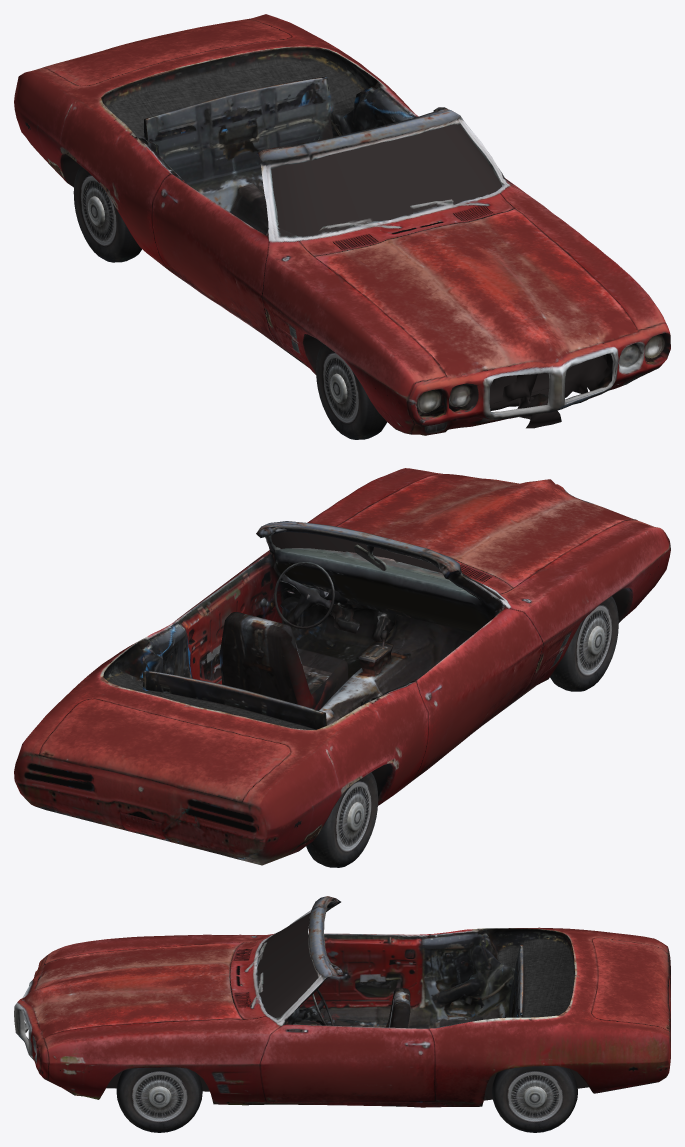
3 views of the same model, one above another, from view 1: azimuth 30°, elevation 25°; view 2: azimuth 150°, elevation 25°; view 3: azimuth 270°, elevation 25° (orthographic). The views are drawn at different scales.
Visible parts, largest first — view 1: LowPolyMuscle, LowPolyMuscle.005, LowPolyMuscle.003, LowPolyMuscle.004; view 2: LowPolyMuscle, LowPolyMuscle.004, LowPolyMuscle.003, LowPolyMuscle.005; view 3: LowPolyMuscle, LowPolyMuscle.002, LowPolyMuscle.001, LowPolyMuscle.005.
Boxes of the visible parts, x1,y1,x2,y2 form: LowPolyMuscle: (14, 14, 670, 435); LowPolyMuscle.005: (271, 124, 501, 236); LowPolyMuscle.003: (316, 343, 386, 439); LowPolyMuscle.004: (73, 166, 141, 262); LowPolyMuscle: (14, 468, 670, 865); LowPolyMuscle.004: (306, 772, 378, 867); LowPolyMuscle.003: (550, 596, 618, 691); LowPolyMuscle.005: (271, 532, 495, 595); LowPolyMuscle: (14, 896, 670, 1107); LowPolyMuscle.002: (492, 1066, 577, 1132); LowPolyMuscle.001: (116, 1067, 202, 1132); LowPolyMuscle.005: (257, 913, 317, 1017).
Size of the model in its own units: 221 by 148 by 563.
1 material, 1 textured.
